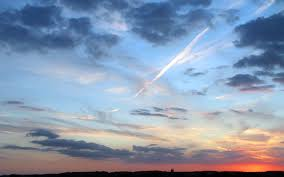sky: (2, 2, 283, 173)
